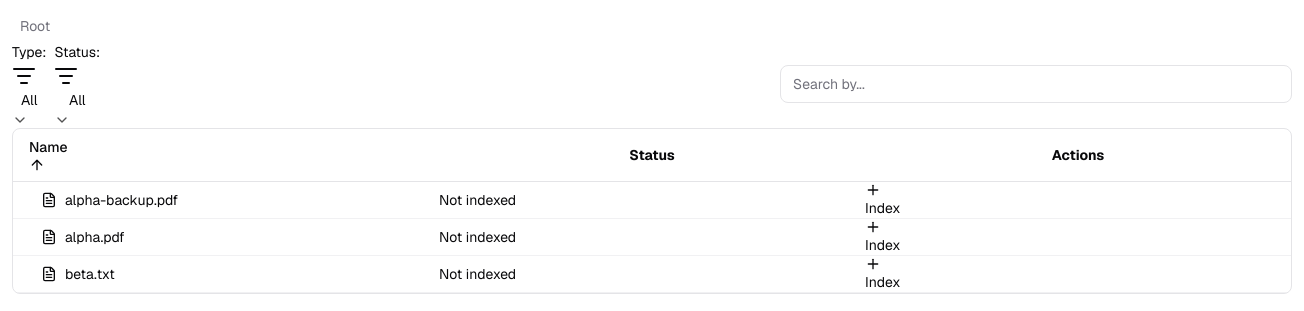
Test case: FilePickerGoogleDriveContainer › Filters and sorting › should display only files and/or folders that match the text entered in the search input
The image size is (1304, 311).
expect the text "alpha.pdf" is shown: met, box 65,227 -> 125,247
expect the text "alpha-backup.pdf" is shown: met, box 65,190 -> 178,210
Type "alpha" into the search field with placeholder "Search by..." at x=1036, y=84, box 780,65 -> 1292,103
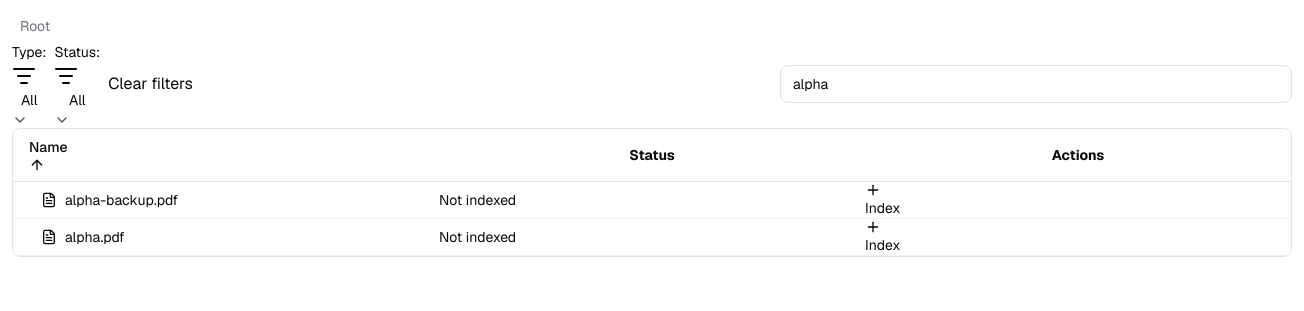
expect the text "alpha.pdf" is shown: met, box 65,227 -> 125,247
expect the text "beta.txt" is gone: met
